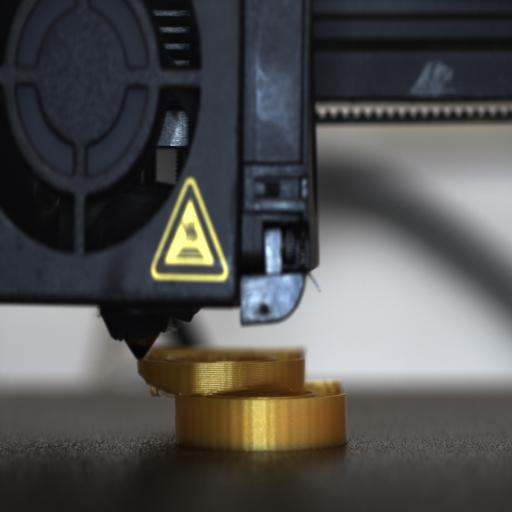layer_shift: (138, 378, 349, 408)
